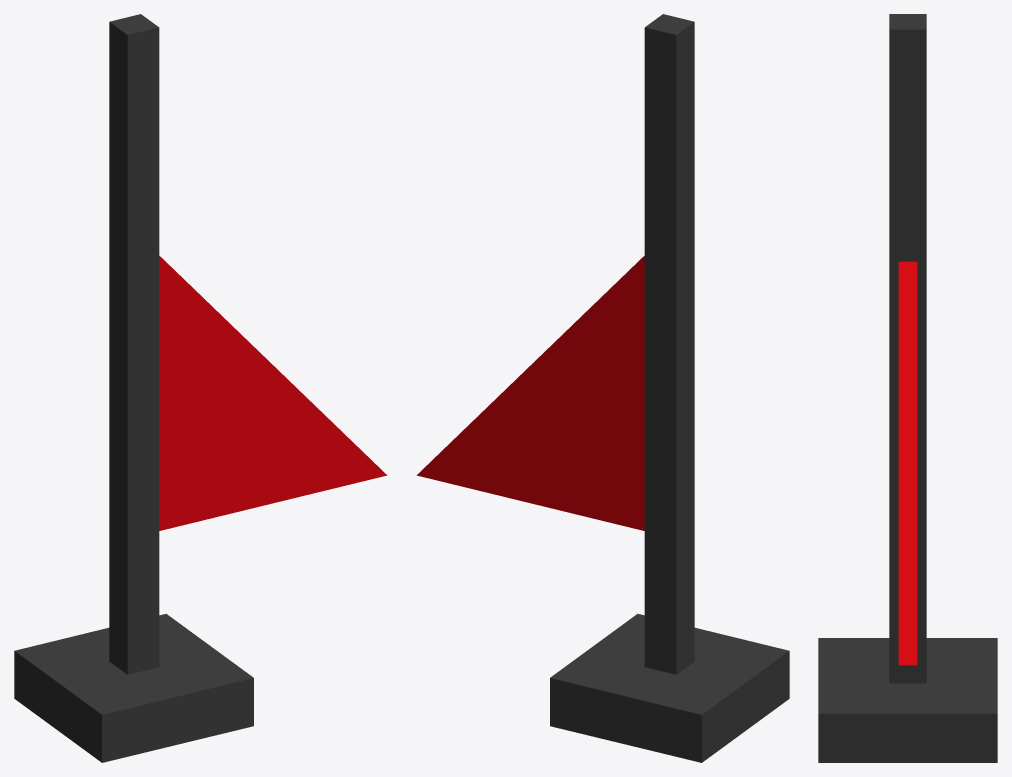
File: checkpoint.glb
3 renders of one model, left to right at view 1: azimuth 30°, elevation 25°; view 2: azimuth 150°, elevation 25°; view 3: azimuth 270°, elevation 25°, orthographic. The views are drawn at different scales.
Parts seen in each view (by area): view 1: Pole, Flag; view 2: Pole, Flag; view 3: Pole, Flag.
Part boxes in pixels (x1=…): Pole: x1=14, y1=14, x2=253, y2=762; Flag: x1=159, y1=256, x2=387, y2=530; Pole: x1=550, y1=14, x2=789, y2=762; Flag: x1=416, y1=256, x2=644, y2=530; Pole: x1=818, y1=14, x2=997, y2=762; Flag: x1=898, y1=261, x2=917, y2=665.
Bounding box in the file's own units: 1.8 × 3.65 × 0.8442.
